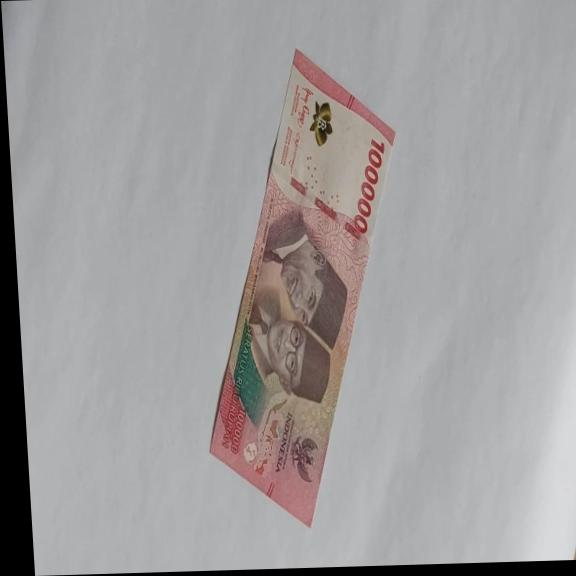Kertas: (184, 45, 419, 532), (348, 136, 390, 235)
